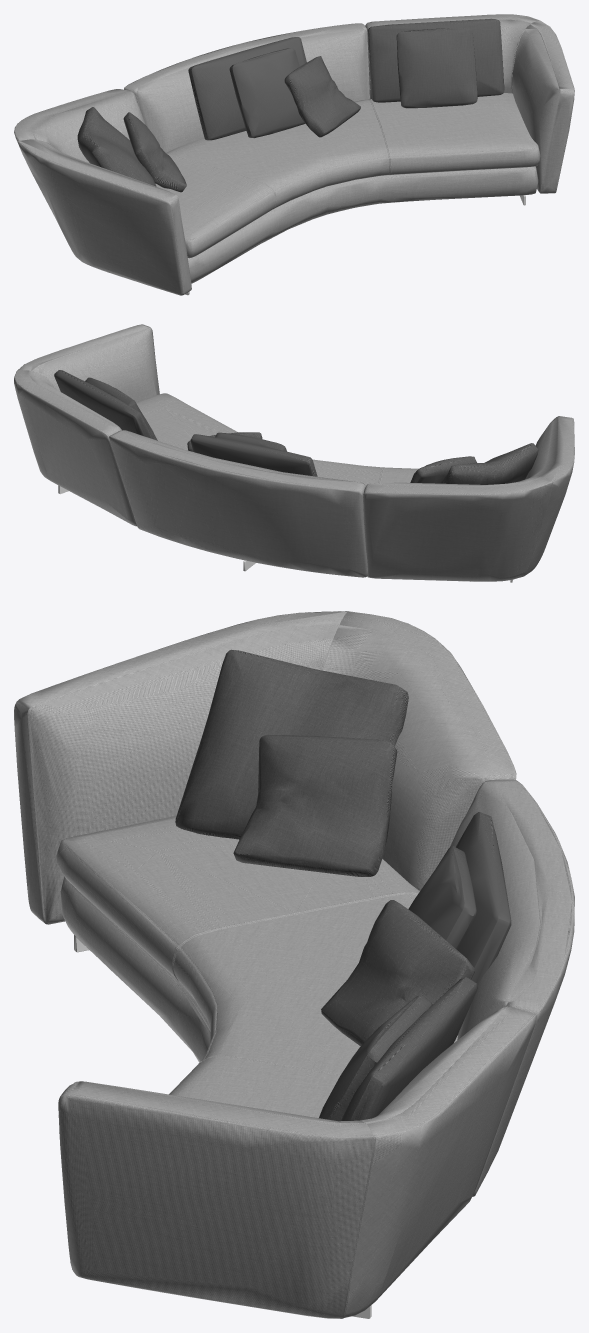
Rendered from couch.glb.
3 renders of one model, top to bottom at view 1: azimuth 30°, elevation 25°; view 2: azimuth 150°, elevation 25°; view 3: azimuth 270°, elevation 25°, orthographic. The views are drawn at different scales.
Visible parts, largest first — view 1: Sofa; view 2: Sofa; view 3: Sofa.
Boxes of the visible parts, bbox=[...] form: Sofa: bbox=[14, 14, 574, 295]; Sofa: bbox=[14, 324, 574, 582]; Sofa: bbox=[14, 611, 574, 1318].
Bounding box in the file's own units: 3.33 × 0.787 × 1.57.
3 materials, 2 textured.
